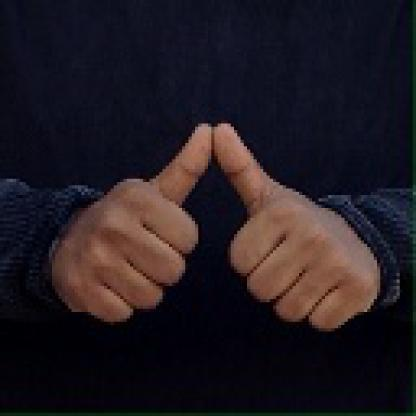A: (59, 105, 377, 329)
